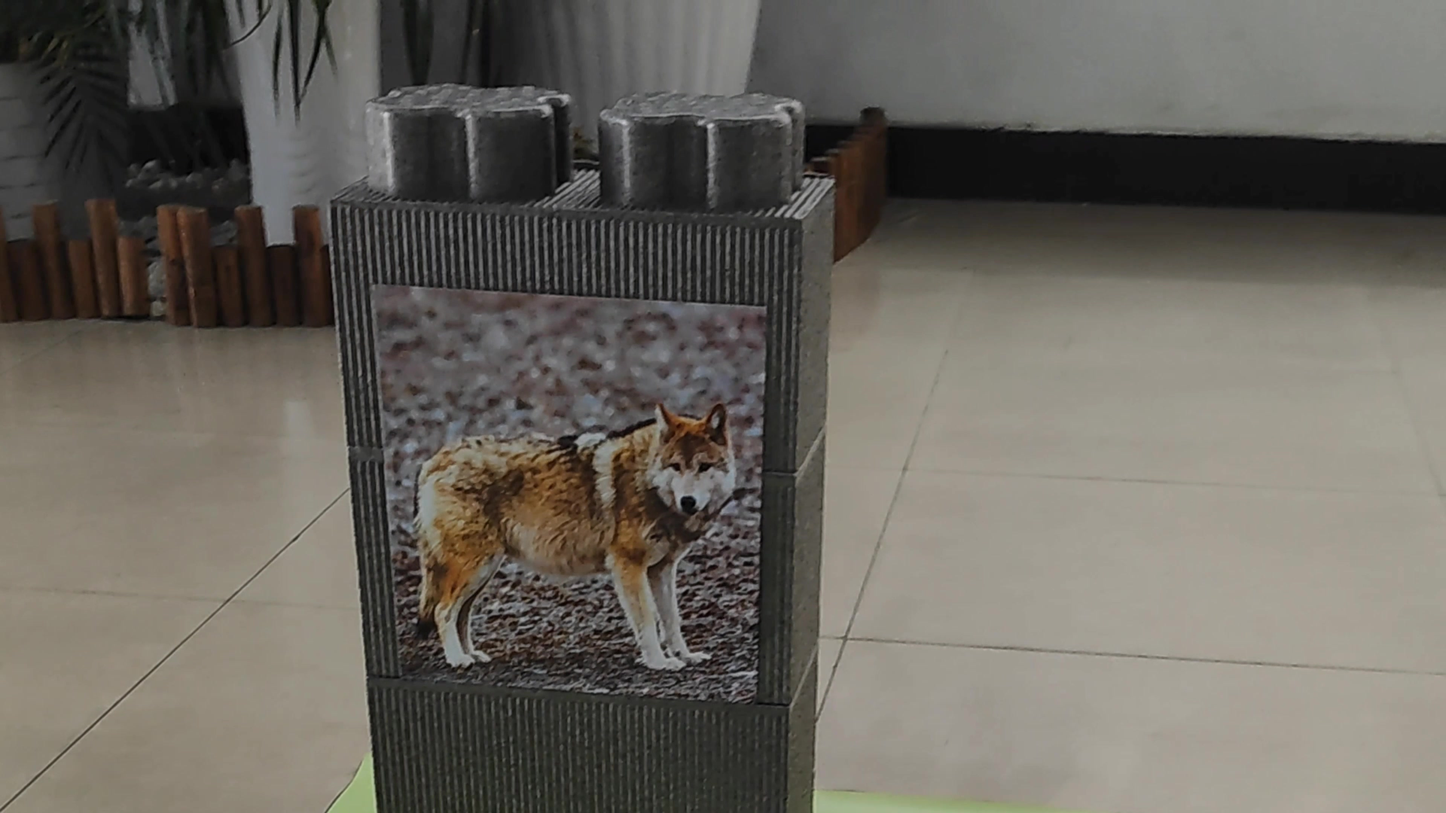wolf: (383, 379, 734, 689)
